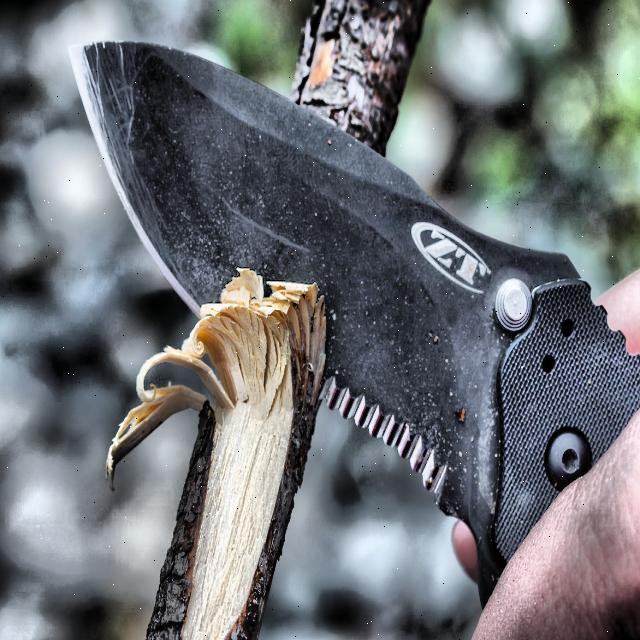knife: (70, 42, 640, 609)
